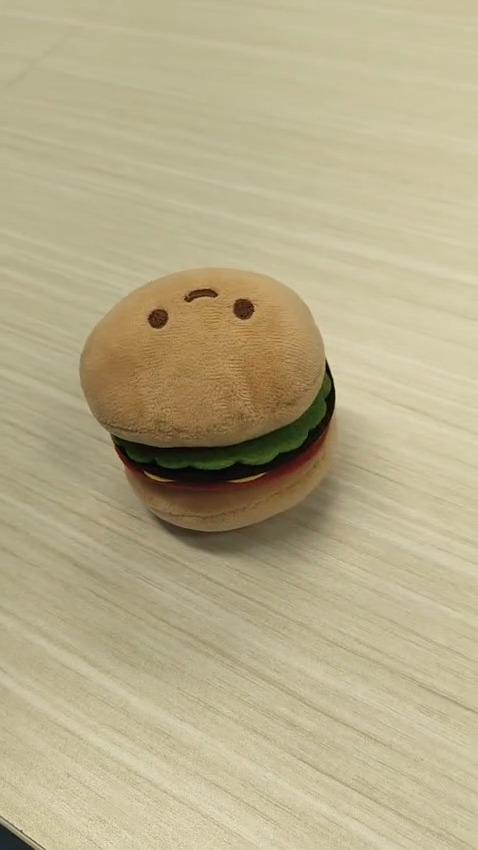hamburger: (78, 265, 337, 534)
